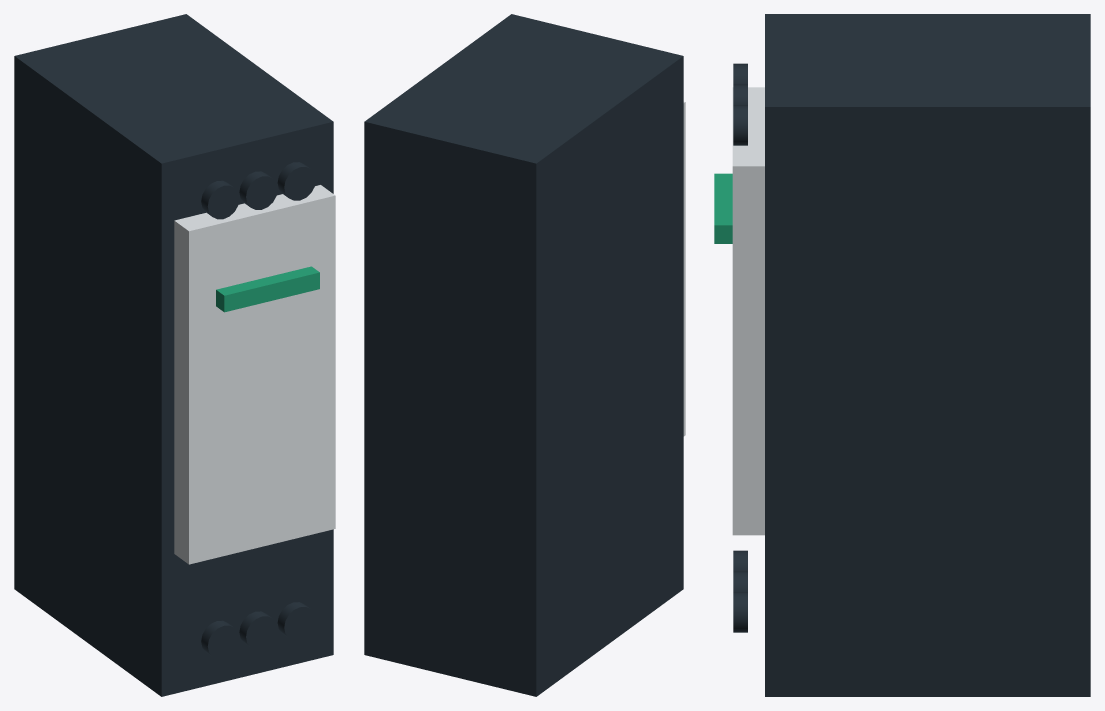
3 views of the same model, side by side, from view 1: azimuth 30°, elevation 25°; view 2: azimuth 150°, elevation 25°; view 3: azimuth 270°, elevation 25° (orthographic). The views are drawn at different scales.
Parts seen in each view (by area): view 1: 分布式IO; view 2: 分布式IO; view 3: 分布式IO.
Boxes of the visible parts, left/top/right/bottom form: 分布式IO: left=14, top=14, right=335, bottom=696; 分布式IO: left=364, top=14, right=685, bottom=696; 分布式IO: left=714, top=14, right=1090, bottom=696.
Size of the model in its own units: 0.27 by 0.8 by 0.4625.
